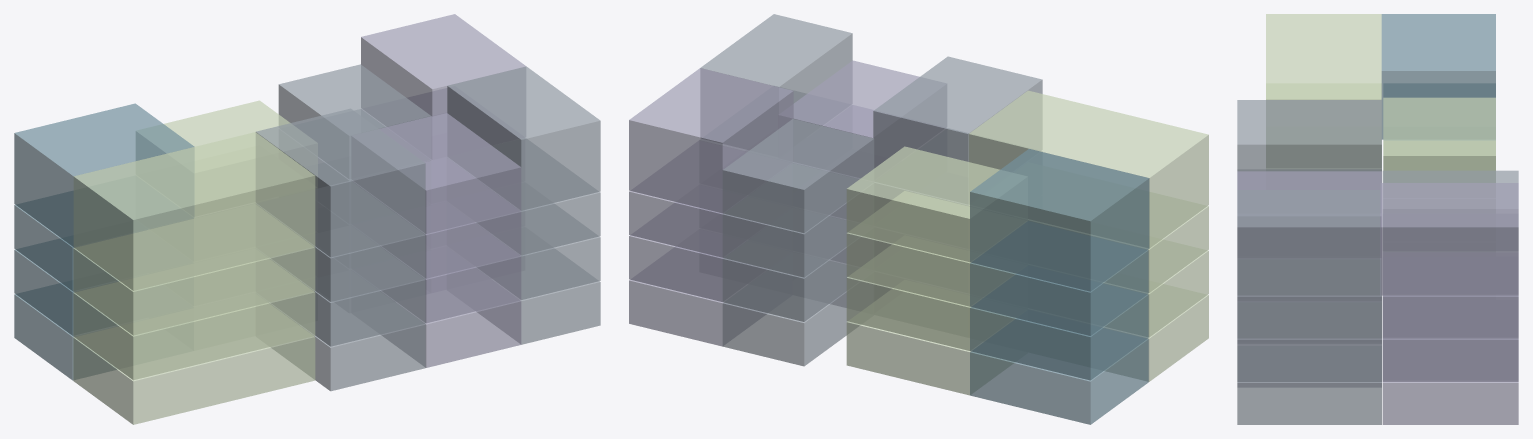
File: g-hitbox.glb
3 views of the same model, side by side, from view 1: azimuth 30°, elevation 25°; view 2: azimuth 150°, elevation 25°; view 3: azimuth 270°, elevation 25° (orthographic). The views are drawn at different scales.
Parts seen in each view (by area): view 1: Box028, Box020, Box027, Box004, Box012, Box029, Box031, Box032, Box030, Box021, Box034, Box005 (+13 smaller); view 2: Box028, Box027, Box032, Box029, Box034, Box031, Box019, Box011, Box003, Box030, Box033, Box026 (+13 smaller); view 3: Box028, Box032, Box031, Box027, Box029, Box030, Box016, Box024, Box008, Box023, Box015, Box007 (+8 smaller).
Boxes of the visible parts, x1,y1,x2,y2 form: Box028: (73,132,315,290); Box020: (73,204,315,335); Box027: (14,103,194,246); Box004: (73,303,315,424); Box012: (73,258,315,380); Box029: (256,108,425,257); Box031: (447,66,600,210); Box032: (361,14,526,159); Box030: (352,113,521,233); Box021: (256,181,425,301); Box034: (136,100,317,215); Box005: (269,290,425,391); Box028: (968,90,1208,248); Box027: (970,149,1149,291); Box032: (629,68,793,213); Box029: (873,56,1042,203); Box034: (846,146,1027,262); Box031: (700,14,852,149); Box019: (970,221,1148,335); Box011: (970,274,1148,380); Box003: (970,318,1148,424); Box030: (779,60,946,177); Box033: (722,119,874,232); Box026: (846,191,1026,306); Box028: (1266,14,1381,167); Box032: (1380,183,1518,295); Box031: (1237,190,1380,295); Box027: (1381,14,1495,139); Box029: (1237,100,1381,189); Box030: (1237,171,1381,257); Box016: (1382,296,1518,381); Box024: (1382,253,1518,338); Box008: (1382,339,1518,424); Box023: (1237,259,1381,338); Box015: (1237,303,1381,381); Box007: (1237,346,1381,424).
Bounding box in the file's own units: 35.88 × 15.53 × 20.02.
